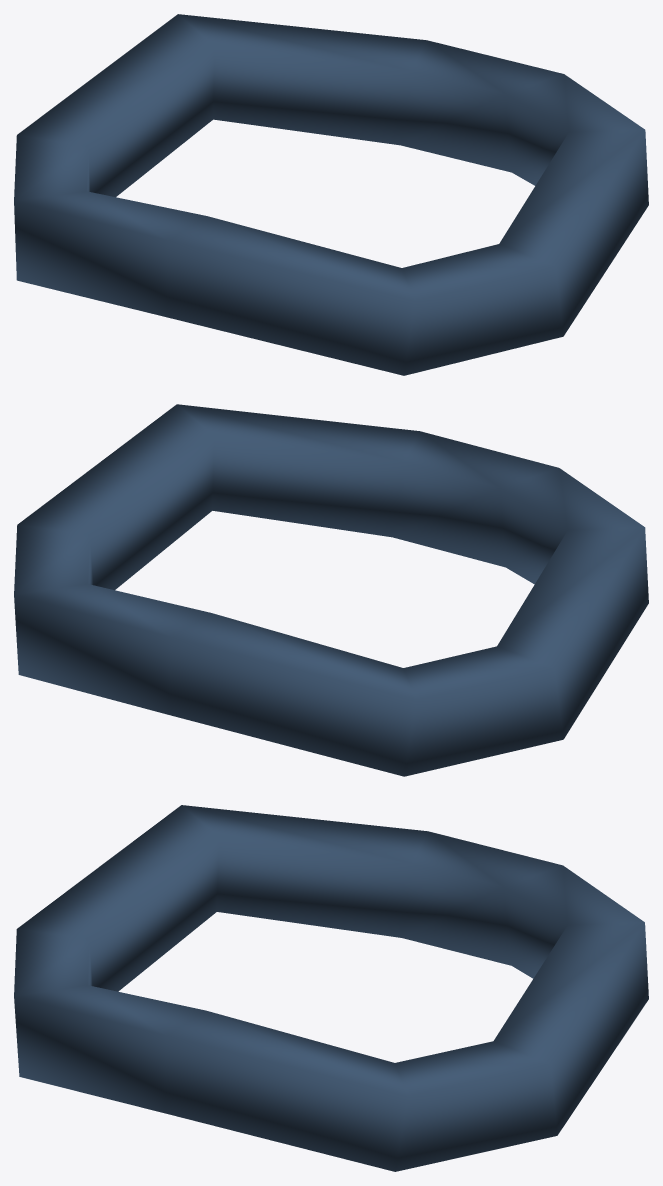
Rendered from ChainLinkCorner.fbx.
3 views of the same model, one above another, from view 1: azimuth 30°, elevation 25°; view 2: azimuth 150°, elevation 25°; view 3: azimuth 270°, elevation 25° (orthographic).
Parts seen in each view (by area): view 1: Strapping.026; view 2: Strapping.026; view 3: Strapping.026.
Part boxes in pixels (x1,y1,x2,y2): Strapping.026: (14, 14, 648, 375); Strapping.026: (14, 404, 648, 776); Strapping.026: (14, 805, 648, 1171).
Size of the model in its own units: 56.57 by 11.76 by 56.45.
